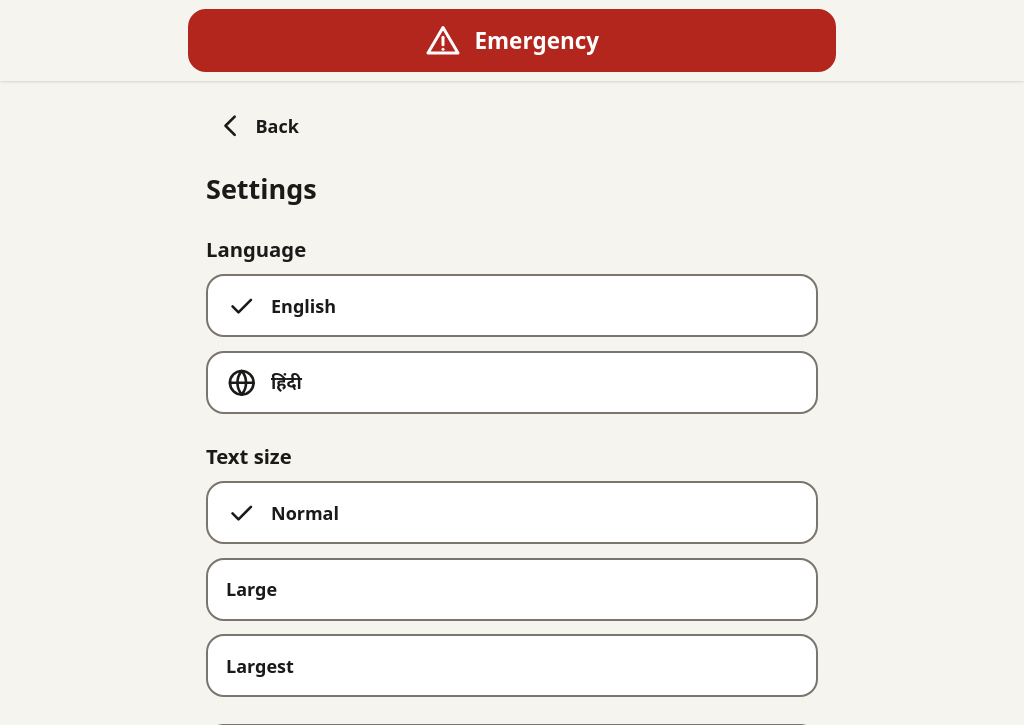
Scenario: settings › switches every label to Hindi
Click the button "हिंदी". click: (242, 382)
box: [206, 351, 818, 414]
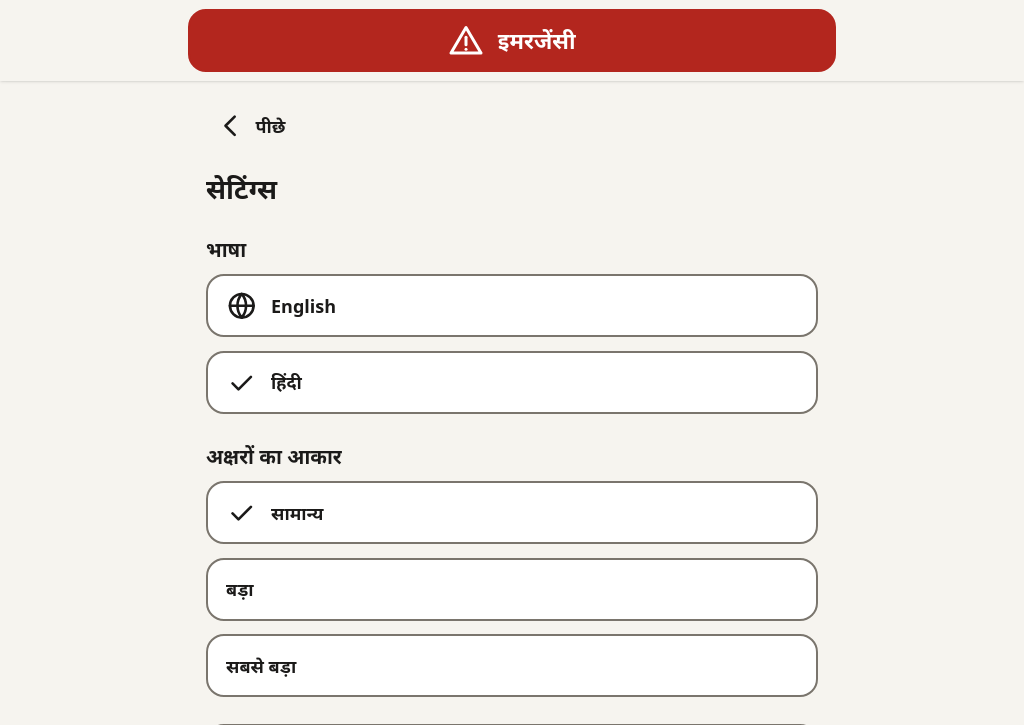
Now the heading "सेटिंग्स" is shown, box [206, 170, 277, 207]
